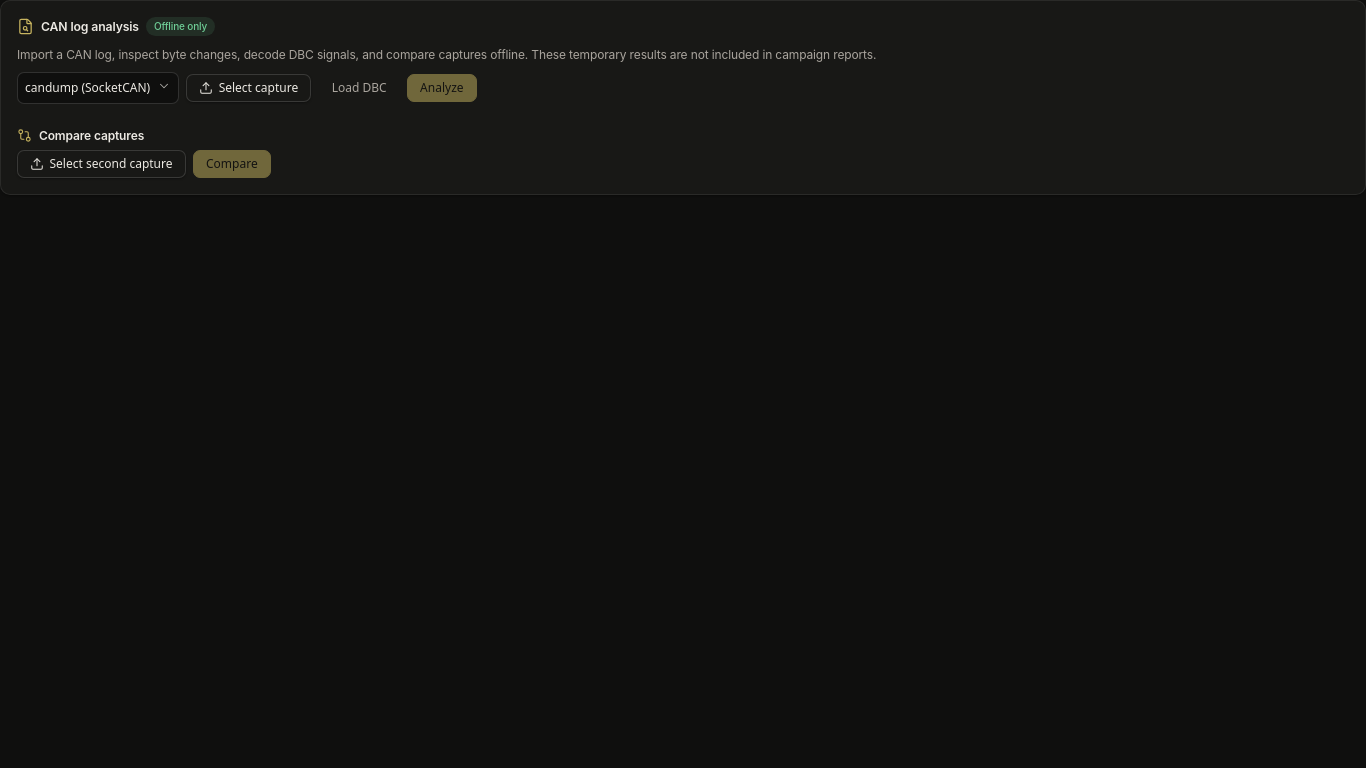
Test: clears decoded frames when a different capture is selected
This screenshot has width=1366, height=768.
Click the button "Select capture".
click(249, 88)  # box [186,74,311,102]
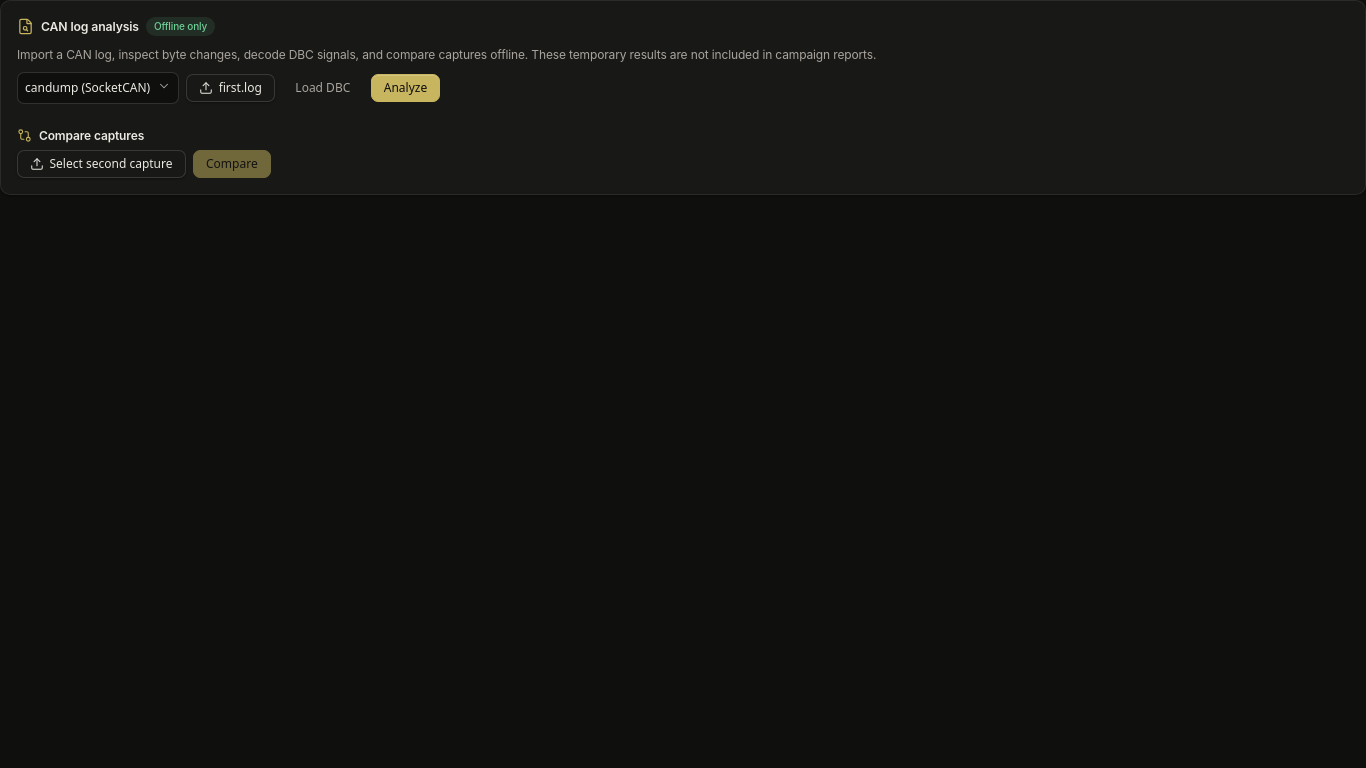
Click the button "Analyze".
click(406, 88)  # box [370,74,440,102]
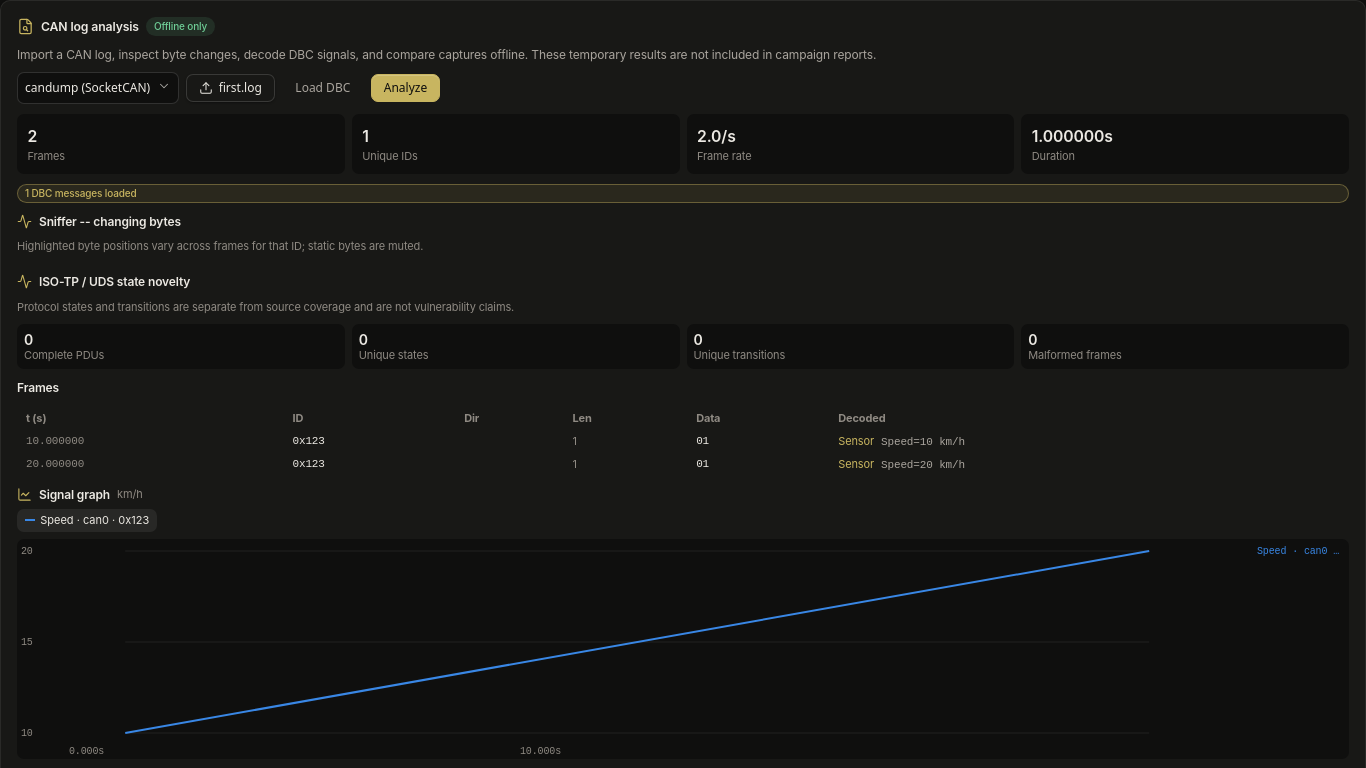
expect the table shows "Sensor": met, box [838,434,874,448]
Click the button "first.log".
click(231, 88)  # box [186,74,275,102]
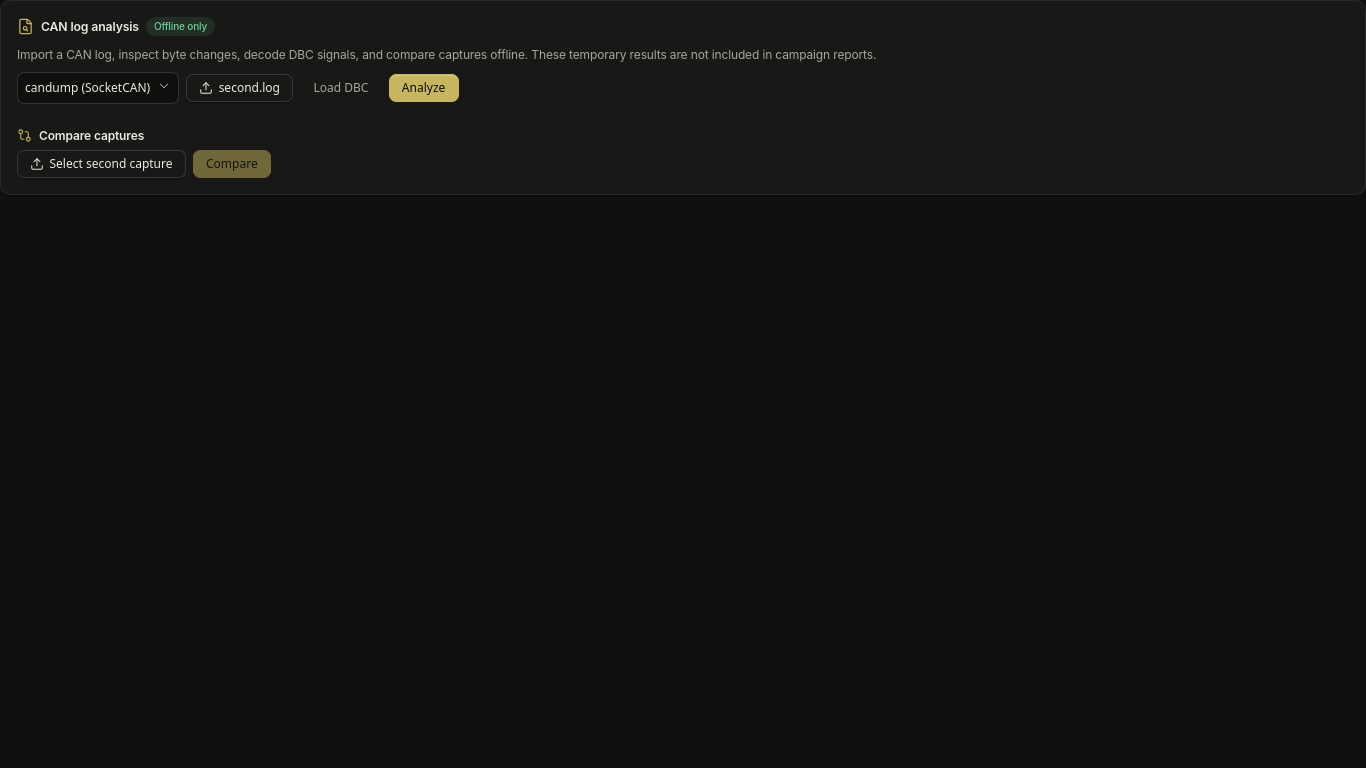
expect the table is gone: met
expect the picture is gone: met
